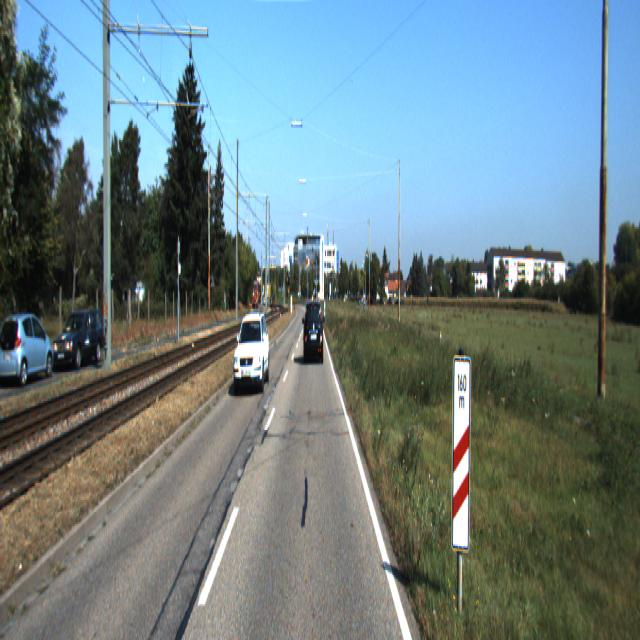Car: (0, 307, 55, 388), (50, 308, 105, 376), (234, 312, 271, 395), (304, 298, 324, 364)
DontCare: (329, 274, 381, 311)
